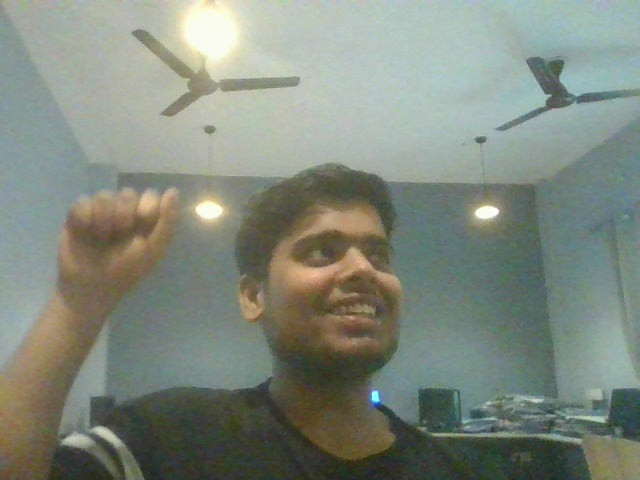A: (46, 145, 197, 334)
